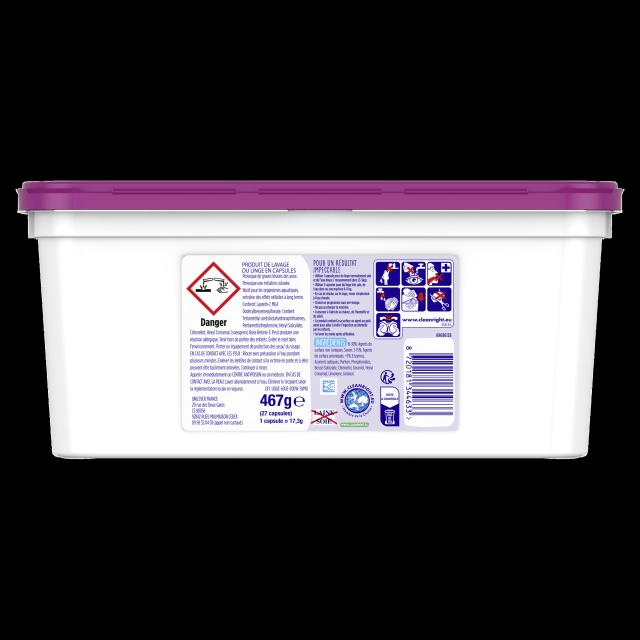GHS_Symbol_CORROSION: (186, 261, 241, 316)
